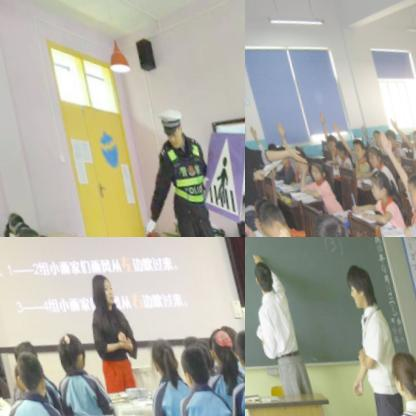head: (381, 339, 416, 403), (338, 252, 377, 307), (6, 346, 44, 399), (246, 194, 292, 237), (170, 337, 209, 386), (140, 326, 178, 376), (47, 321, 86, 369), (302, 206, 357, 237), (198, 314, 232, 362), (153, 99, 186, 146), (84, 264, 114, 307), (5, 334, 35, 372), (362, 163, 391, 202), (246, 250, 274, 290), (395, 162, 416, 209), (226, 319, 245, 368), (302, 153, 326, 183), (286, 144, 308, 175), (360, 139, 382, 166), (8, 222, 41, 237), (0, 205, 17, 233), (319, 126, 337, 150), (346, 130, 362, 156), (260, 136, 277, 160), (270, 139, 286, 163), (330, 135, 345, 157), (380, 122, 395, 144), (405, 121, 416, 148), (366, 123, 380, 141)
